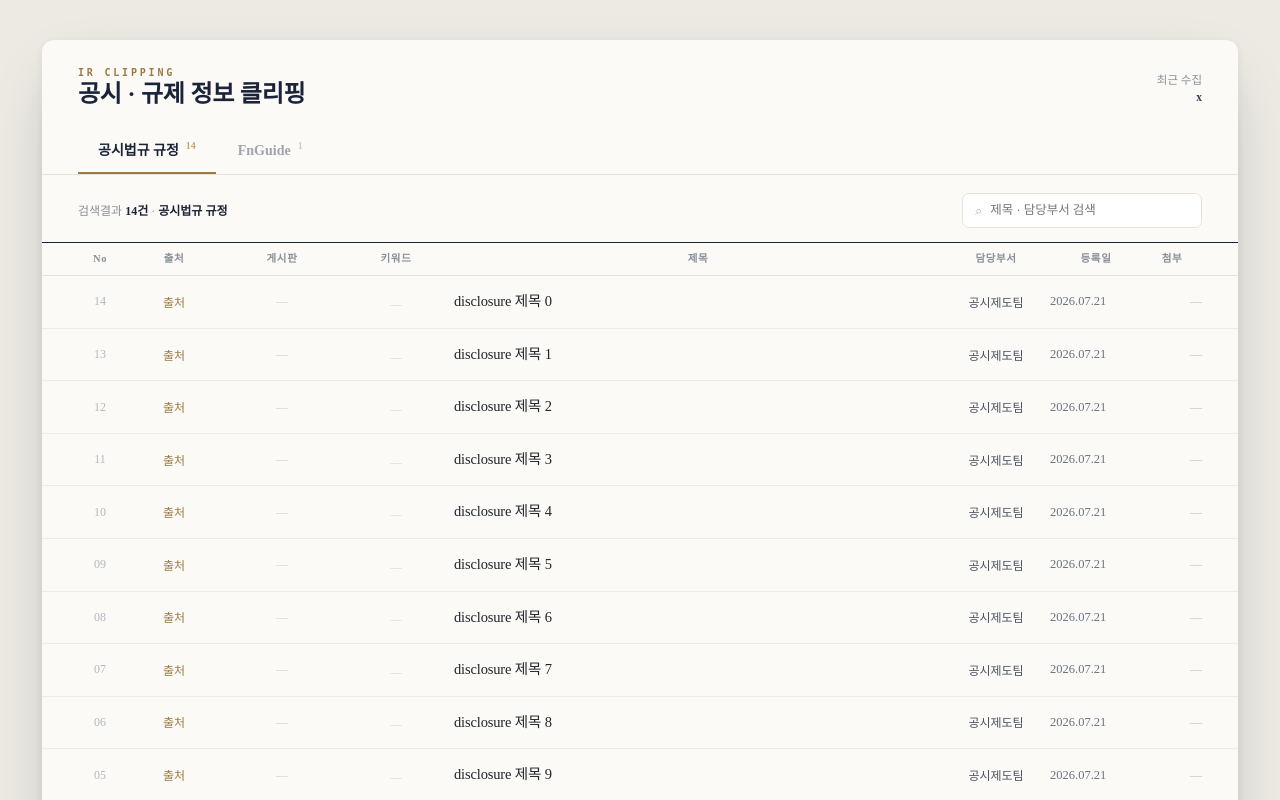
it: Board › switching tab resets page and query, and swaps data
This screenshot has width=1280, height=800.
Type "리포트" into the field with placeholder "제목 · 담당부서 검색".
click(1090, 210); type("리포트")  # box left=990, top=194, right=1189, bottom=227
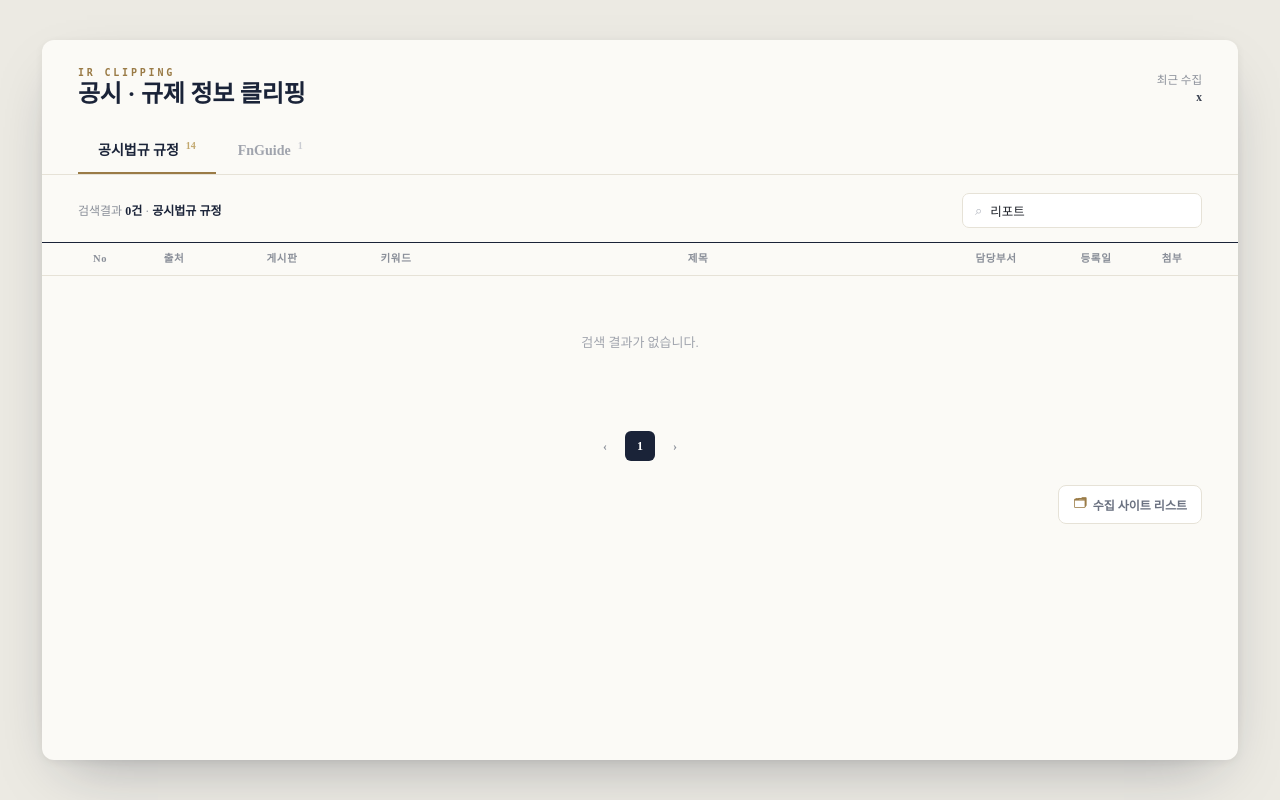
Click the text "FnGuide".
click(270, 149)  # box left=238, top=140, right=303, bottom=158
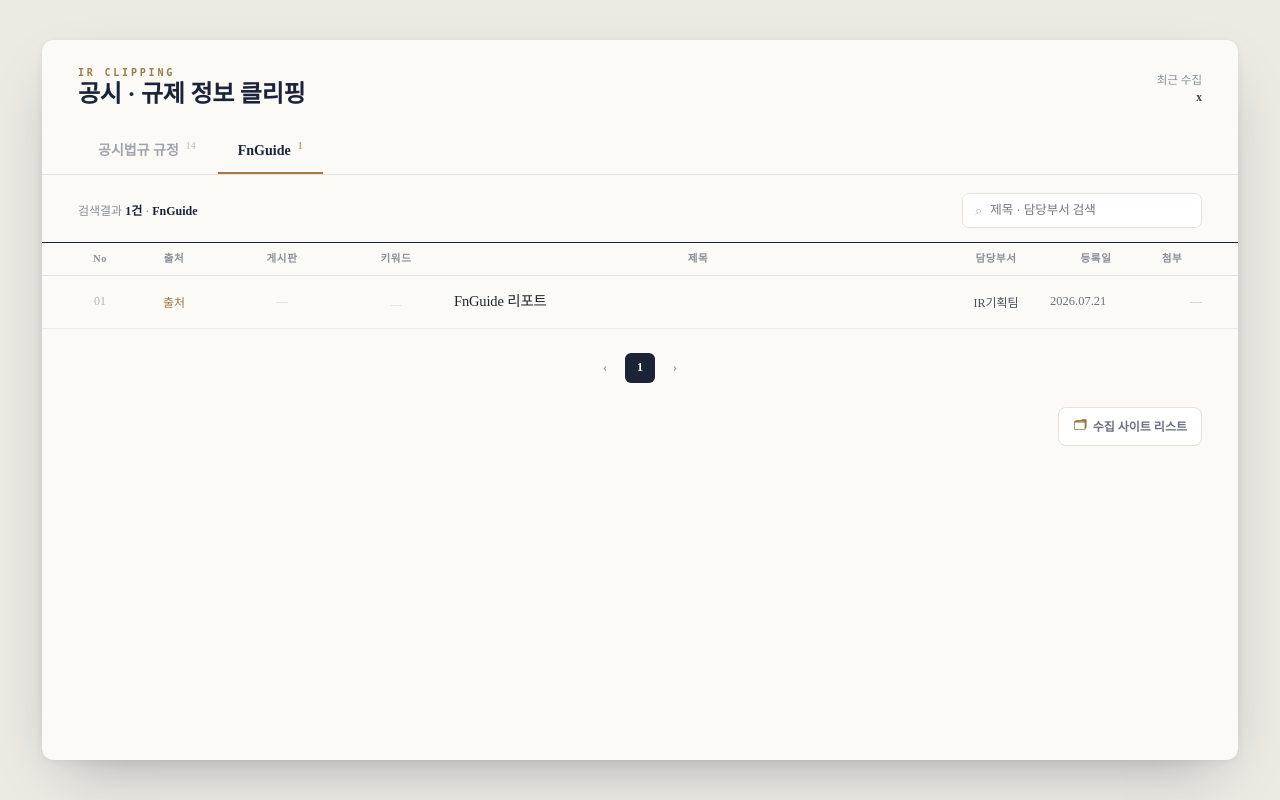
Expected: the text "FnGuide 리포트" is shown, left=454, top=293, right=547, bottom=309
Expected: the field with placeholder "제목 · 담당부서 검색" is empty, left=990, top=194, right=1189, bottom=227
